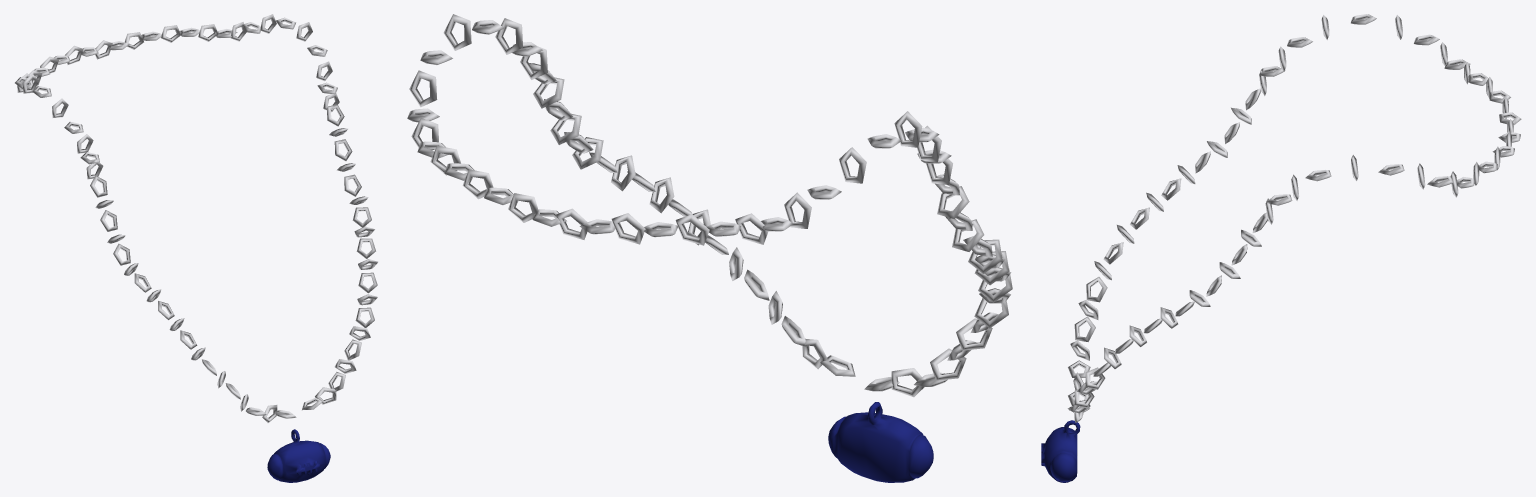
The model's file is acc_chain_football.glb.
3 renders of one model, left to right at view 1: azimuth 30°, elevation 25°; view 2: azimuth 150°, elevation 25°; view 3: azimuth 270°, elevation 25°, orthographic. The views are drawn at different scales.
Parts seen in each view (by area): view 1: acc_chain_football_0_metal, acc_chain_football_1_secondary; view 2: acc_chain_football_0_metal, acc_chain_football_1_secondary; view 3: acc_chain_football_0_metal, acc_chain_football_1_secondary.
Boxes of the visible parts, x1,y1,x2,y2 form: acc_chain_football_0_metal: [15, 14, 377, 422]; acc_chain_football_1_secondary: [267, 429, 330, 482]; acc_chain_football_0_metal: [407, 14, 1012, 397]; acc_chain_football_1_secondary: [828, 402, 933, 482]; acc_chain_football_0_metal: [1067, 14, 1521, 422]; acc_chain_football_1_secondary: [1041, 420, 1080, 482].
Size of the model in its own units: 0.1856 by 0.2167 by 0.2393.
